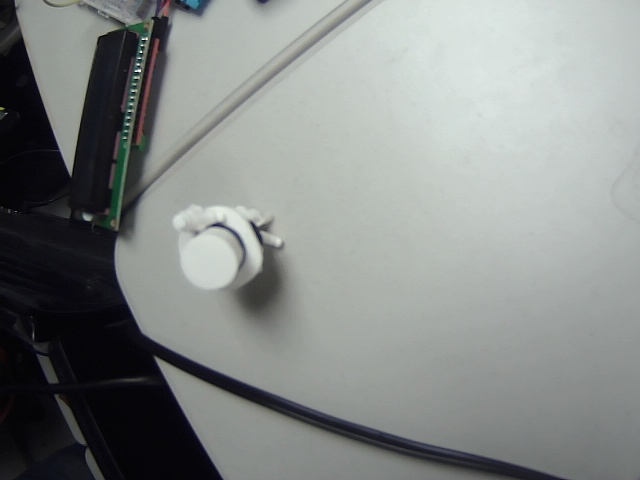lucci: (165, 194, 305, 318)
